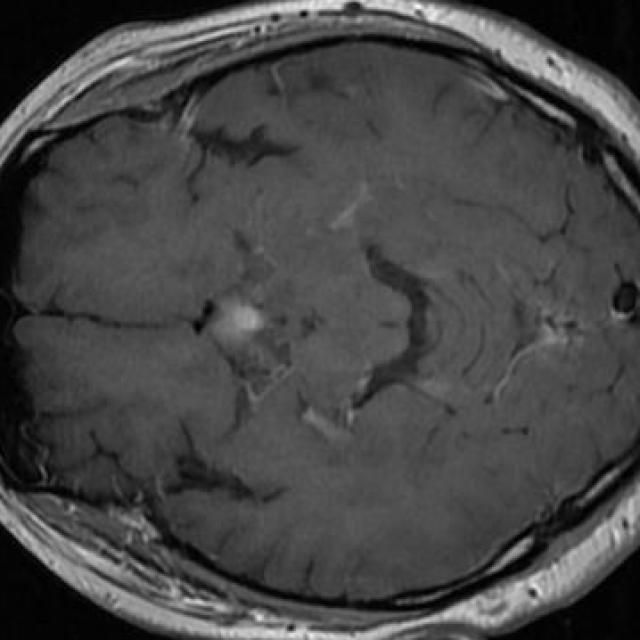pituitary: (207, 296, 266, 353)
